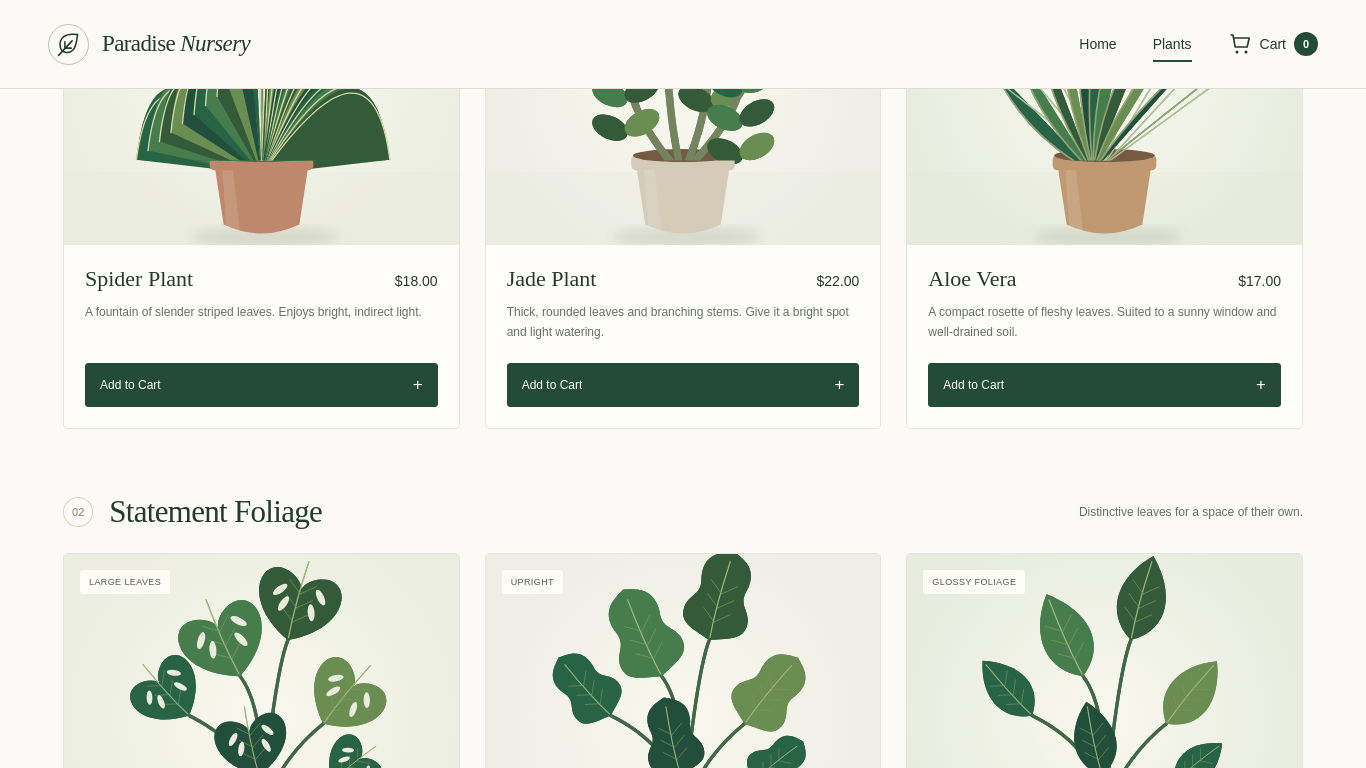
Paradise Nursery shopping flow › removes the final unit on decrease and allows the plant to be added again
The image size is (1366, 768).
(page scrolled)
Step 1. Click the button with aria-label "Add Aloe Vera to cart" → [974, 385], box x1=928 y1=362 x2=1281 y2=406
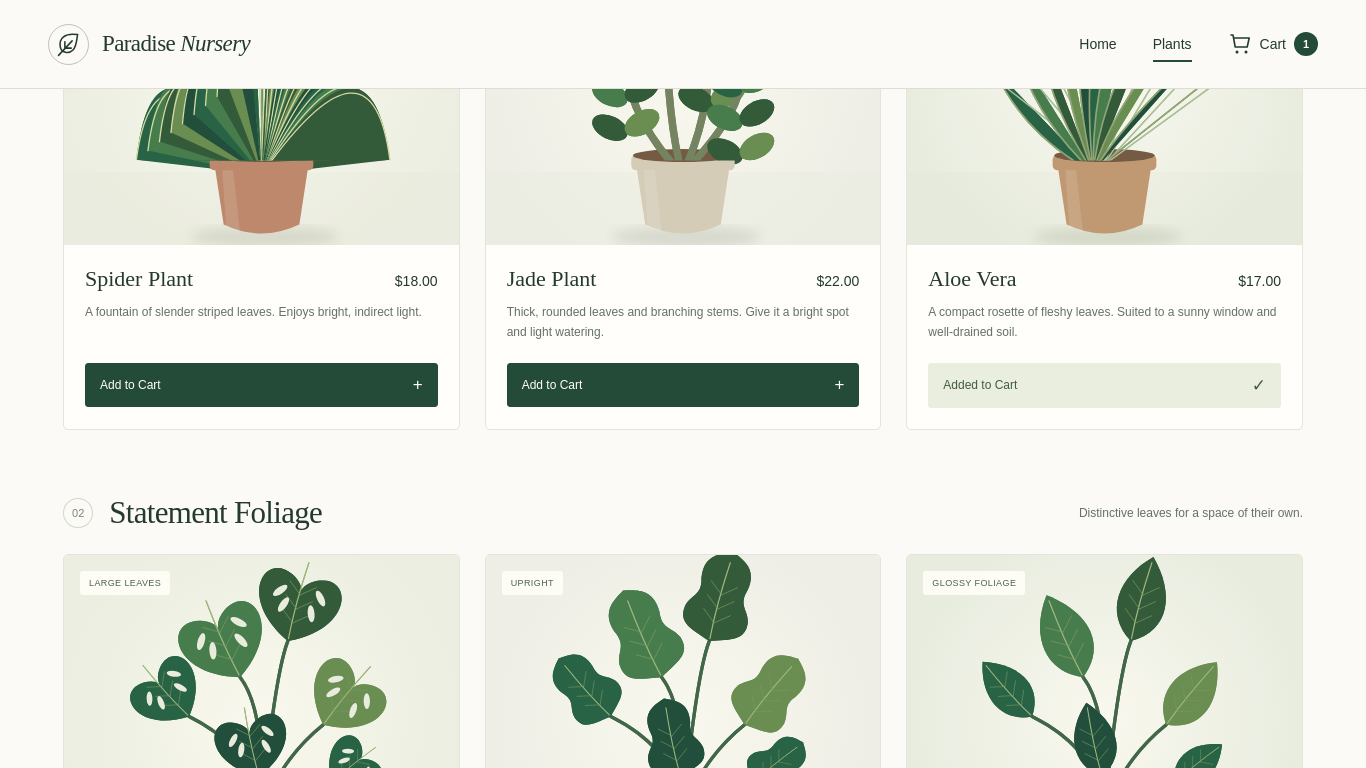
Step 2. Click the link with aria-label "Cart, 1 item" → [1273, 44], box x1=1228 y1=32 x2=1318 y2=56
(page scrolled)
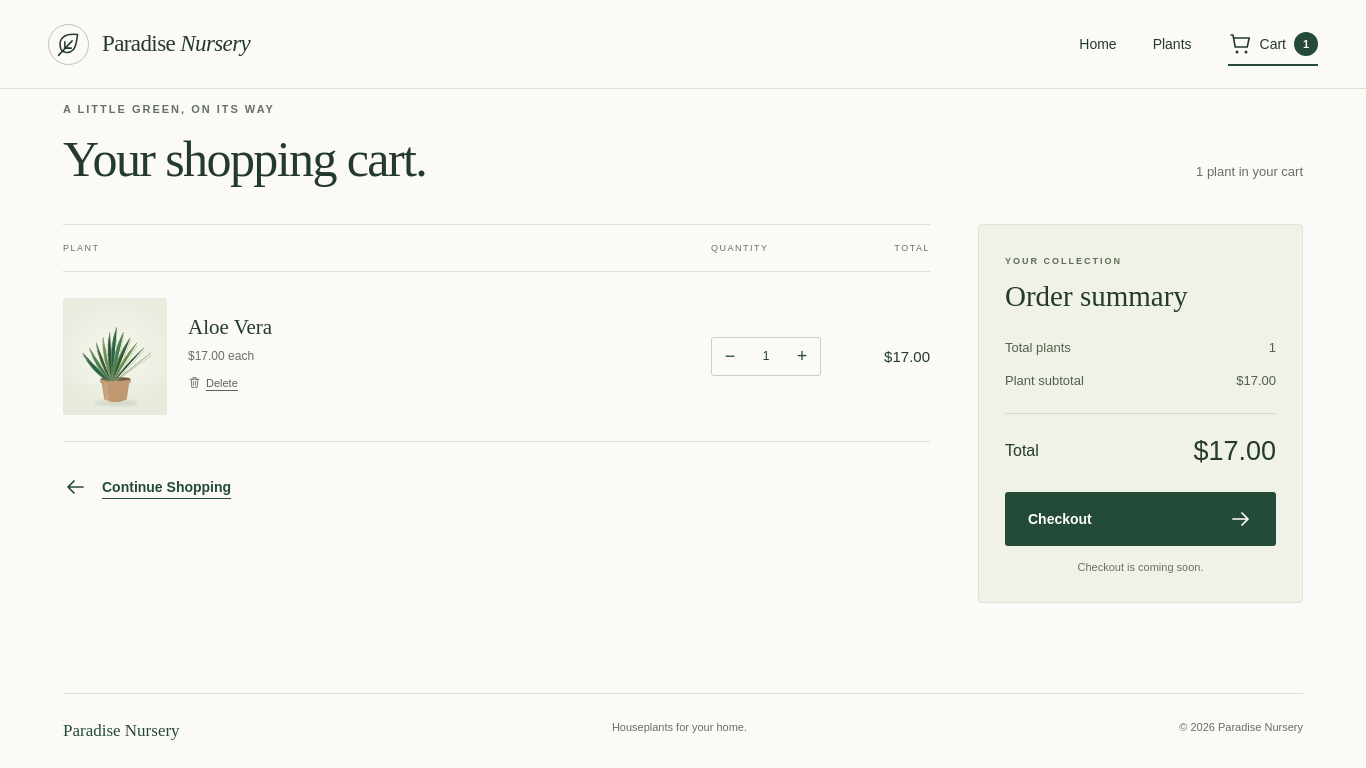
Step 3. Click the button named "Decrease Aloe Vera quantity" → [730, 356], box x1=712 y1=338 x2=748 y2=375
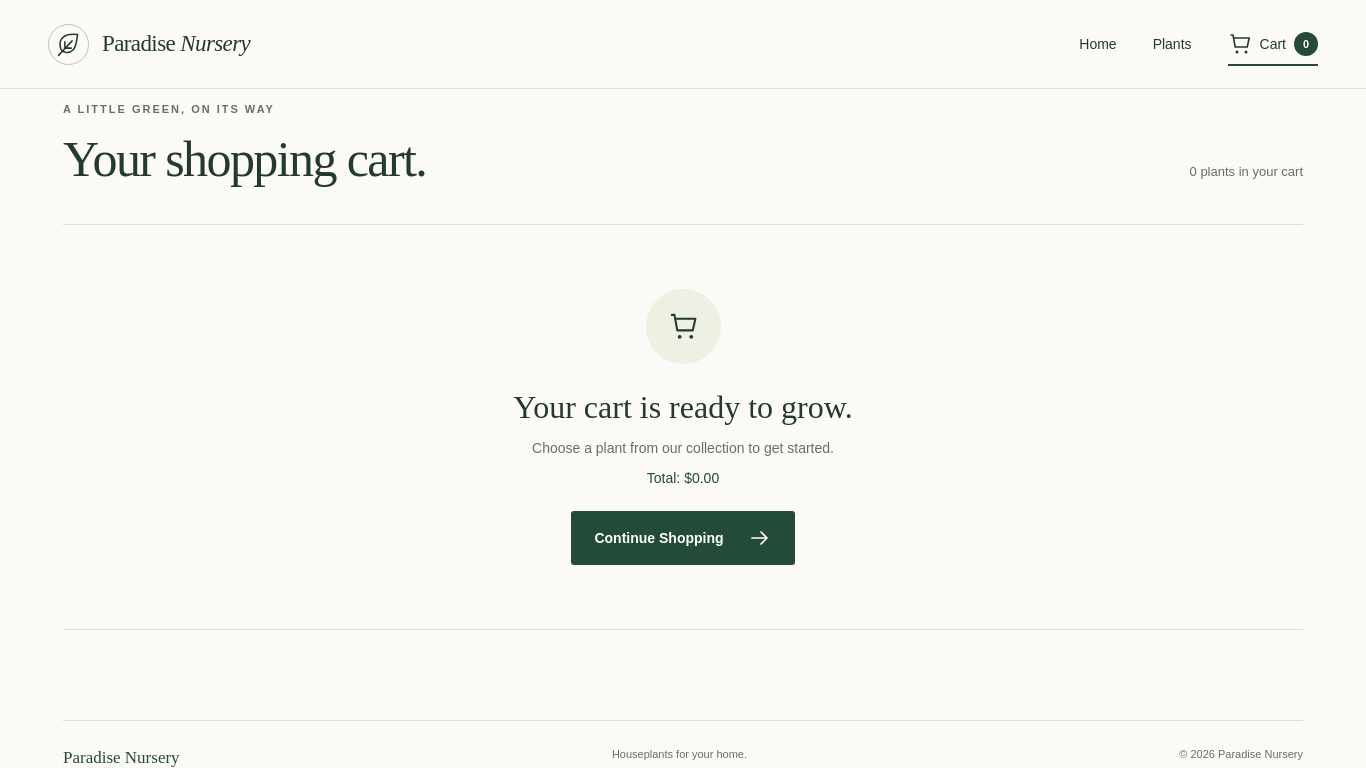
Expected: the heading "Your cart is ready to grow." is shown, x1=513 y1=389 x2=853 y2=425
Expected: the text "Total: $0.00" is shown, x1=647 y1=470 x2=719 y2=486
Expected: the text with test id "cart-count" reads "0", x1=1303 y1=38 x2=1309 y2=50
Step 4. Click the button "Continue Shopping" → [683, 538], box x1=572 y1=511 x2=795 y2=565
(page scrolled)
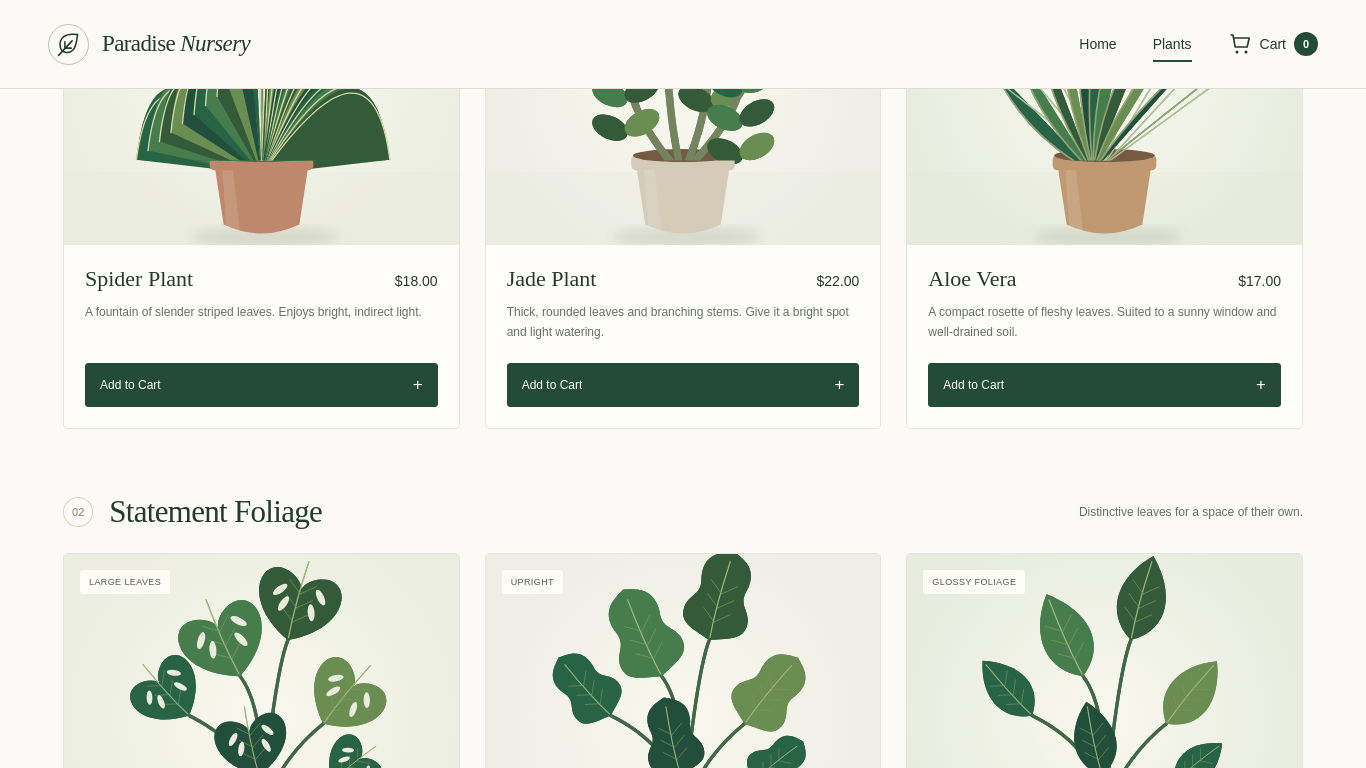
Step 5. Click the button with aria-label "Add Aloe Vera to cart" → [974, 385], box x1=928 y1=362 x2=1281 y2=406
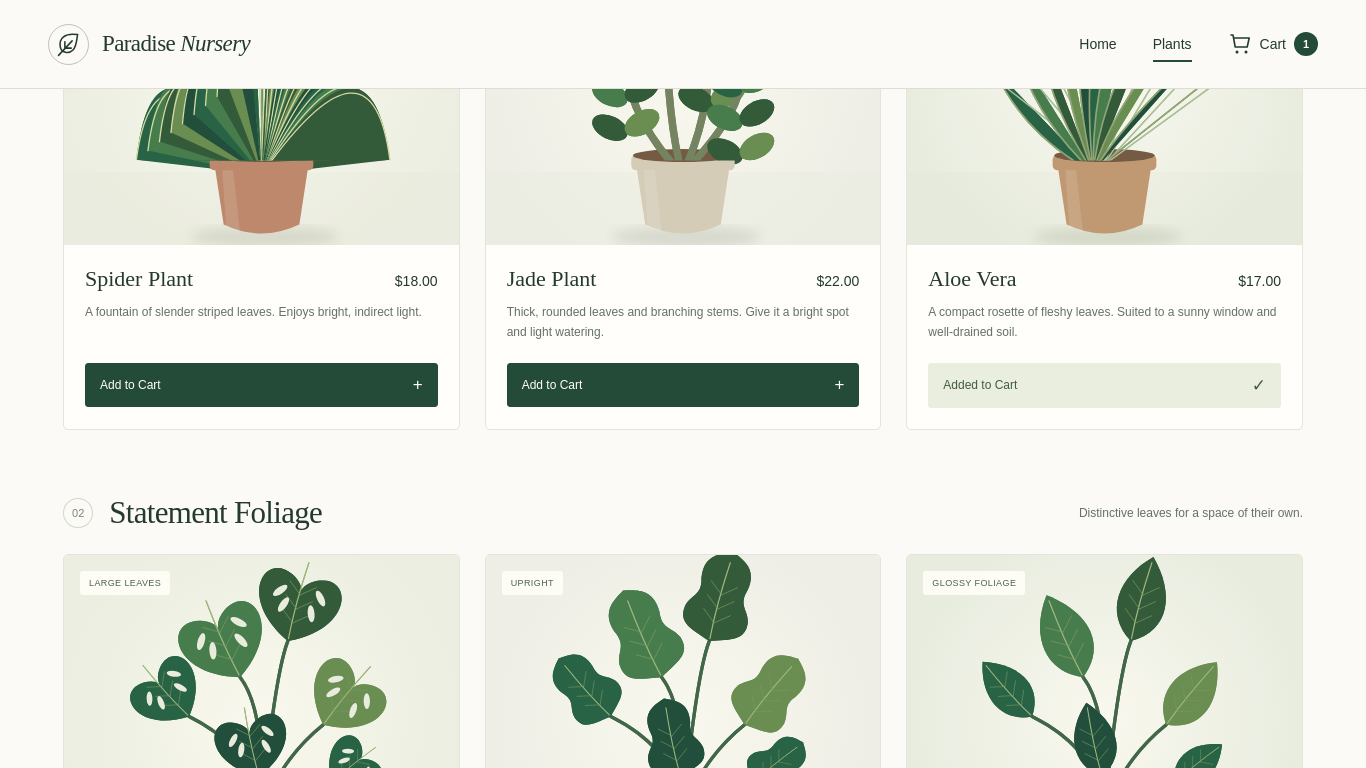
Expected: the text with test id "cart-count" reads "1", x1=1303 y1=38 x2=1309 y2=50
